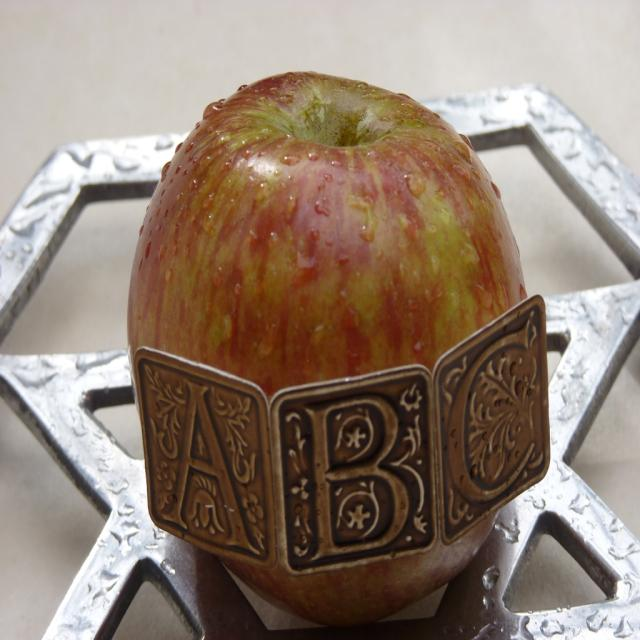Healty Apple: (106, 102, 513, 620)
